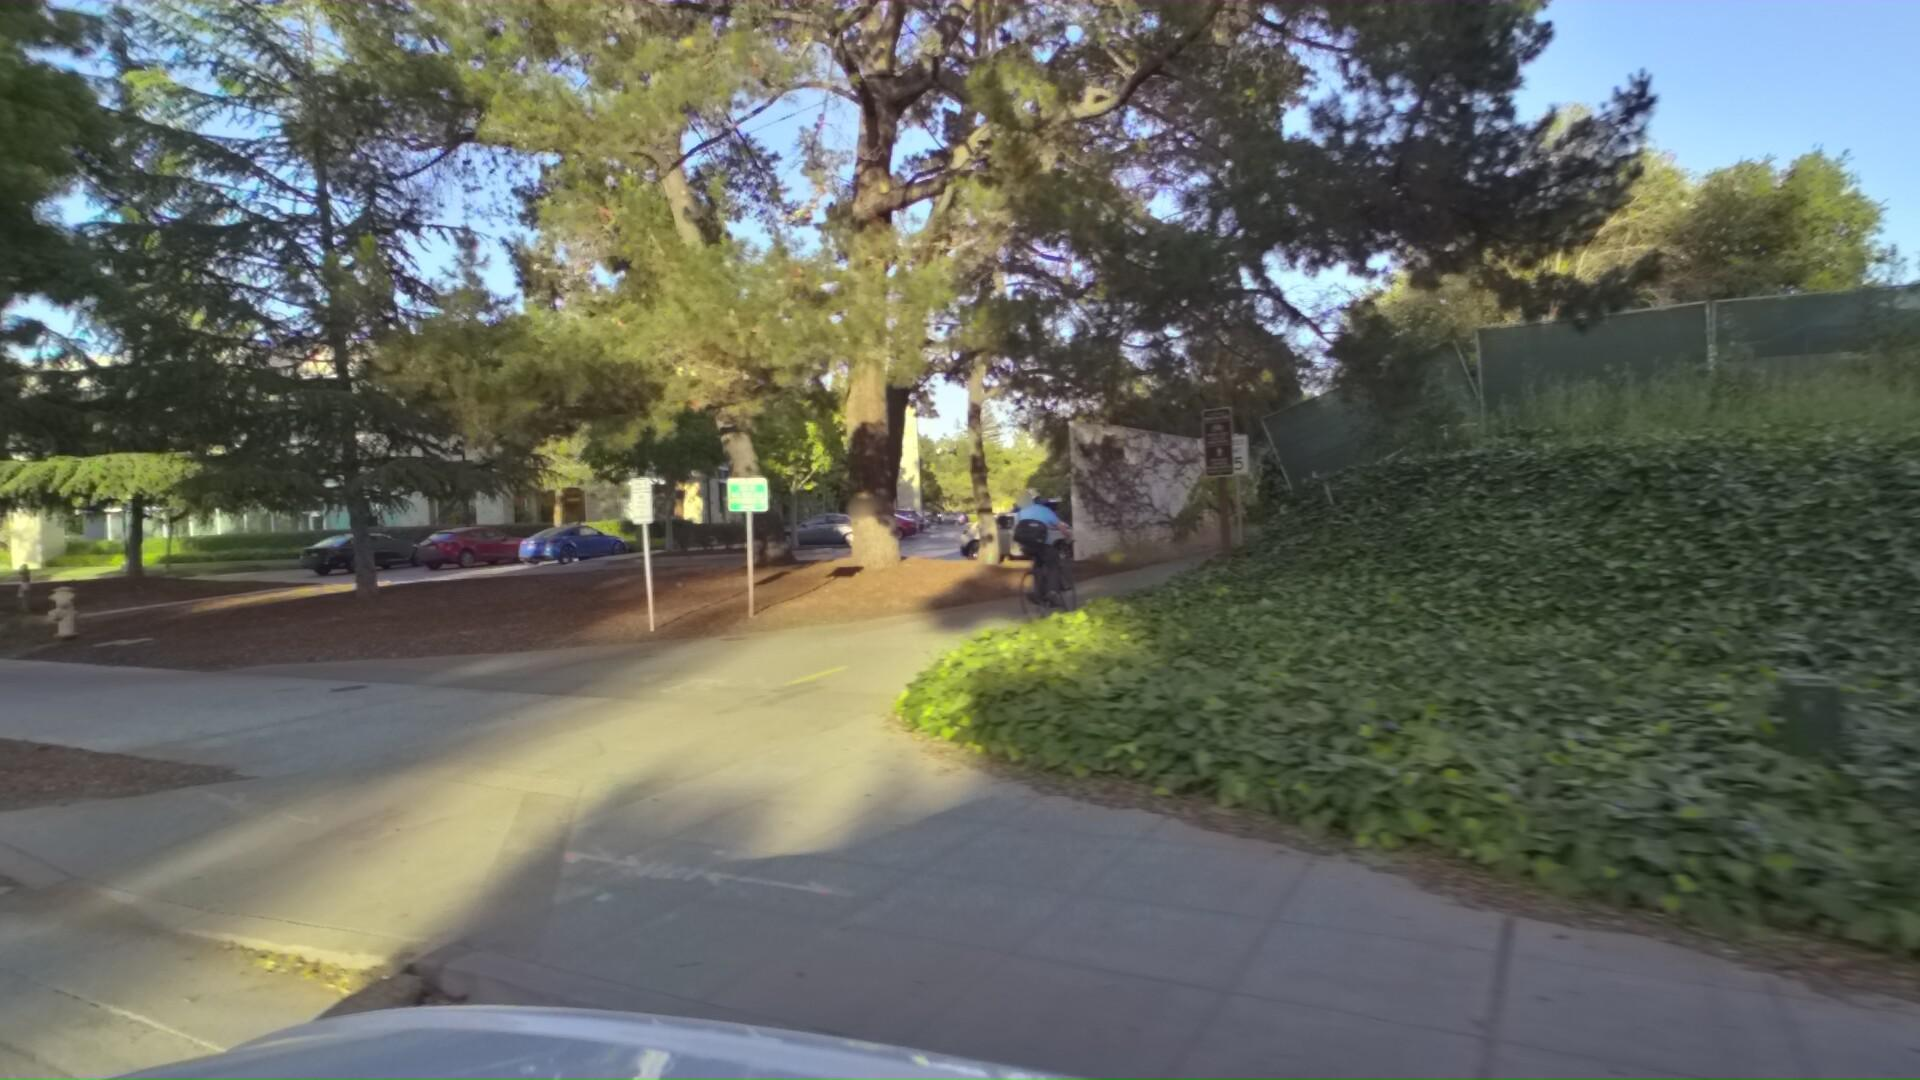bicycle: (1002, 464, 1150, 622)
